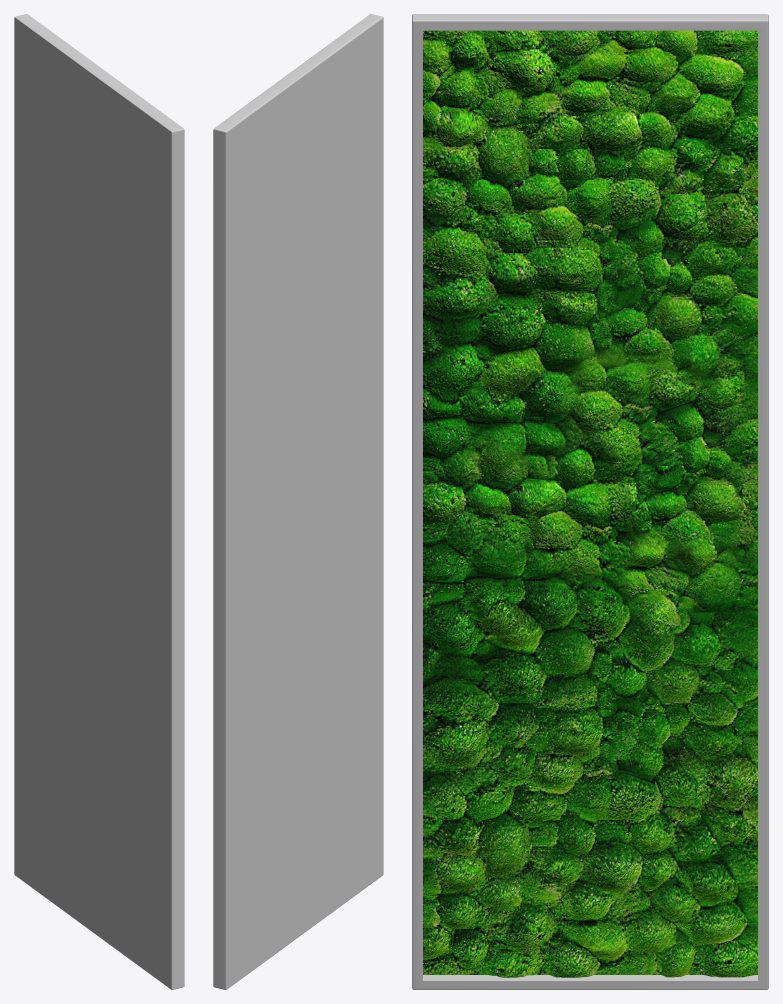
Rendered from celing_mossWall.fbx.
The picture shows the model from 3 angles, left to right: view 1: azimuth 30°, elevation 25°; view 2: azimuth 150°, elevation 25°; view 3: azimuth 270°, elevation 25°; orthographic projection. The views are drawn at different scales.
Visible parts, largest first — view 1: edge; view 2: edge; view 3: moss_, moss_low, edge.
Boxes of the visible parts, box(x1,y1,x2,y2) form: edge: box(14, 14, 184, 989); edge: box(213, 14, 383, 989); moss_: box(423, 30, 757, 977); moss_low: box(423, 30, 757, 974); edge: box(412, 14, 768, 989).
Size of the model in its own units: 6.93 by 300 by 100.
Materials: 2 (1 with a texture image).
